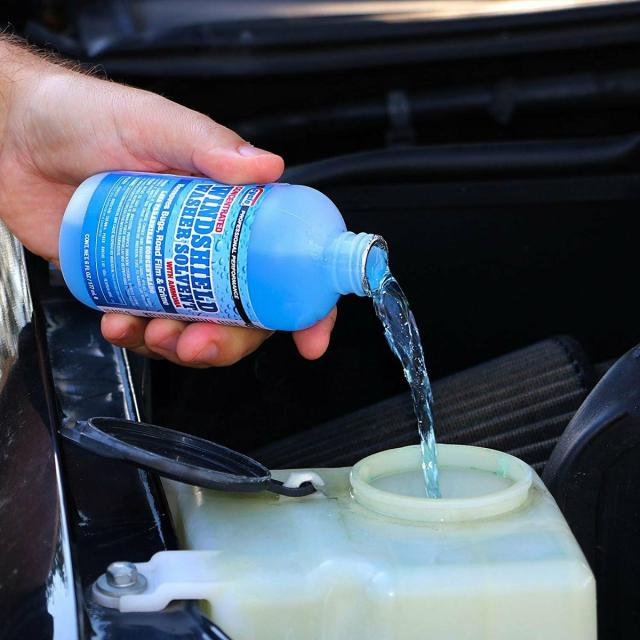winwinshield_washer: (58, 170, 396, 333)
